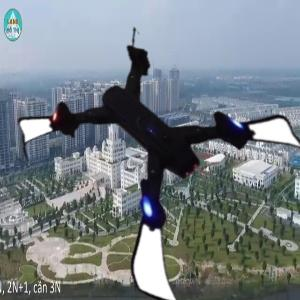drone: (47, 26, 300, 280)
